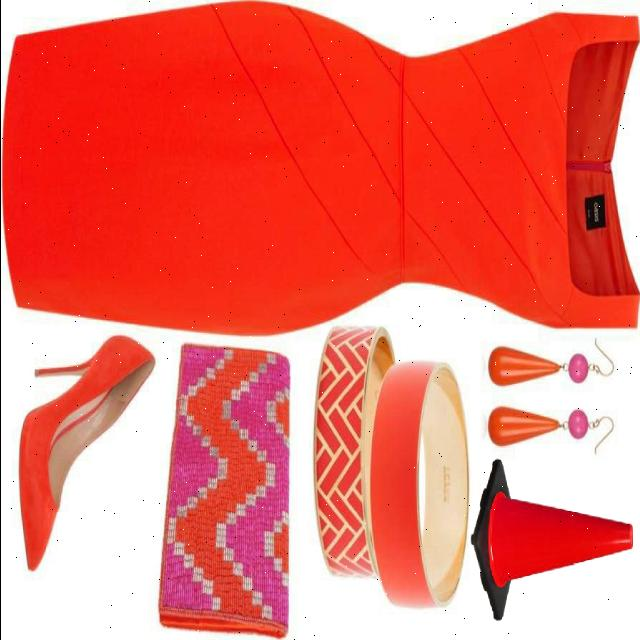traffic cone: (469, 454, 636, 635)
